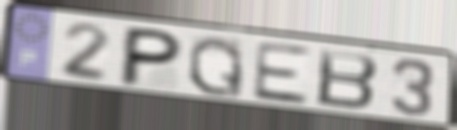2: (59, 21, 112, 86)
3: (389, 56, 439, 120)
B: (314, 47, 381, 113)
E: (249, 40, 312, 107)
P: (115, 24, 187, 89)
Q: (186, 34, 246, 100)
